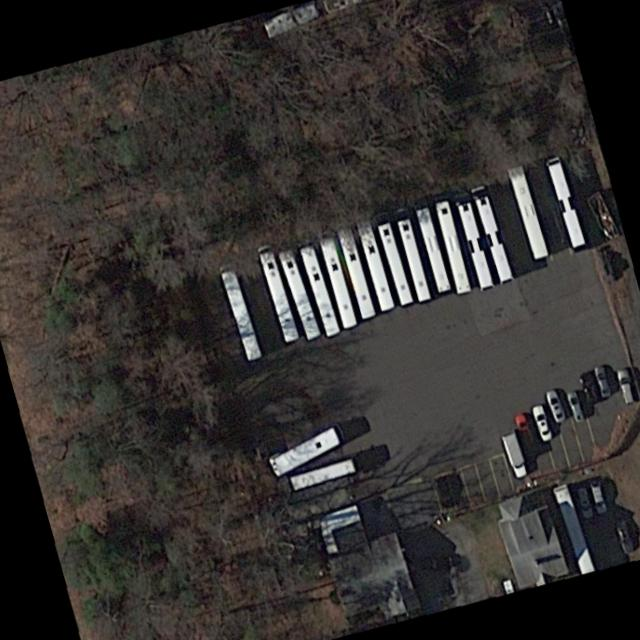large-vehicle: (216, 263, 261, 364), (469, 186, 513, 286), (254, 244, 298, 344), (505, 166, 548, 261), (276, 249, 320, 340), (297, 244, 339, 337), (316, 232, 356, 329), (544, 158, 584, 249), (267, 427, 339, 477), (454, 201, 493, 292), (433, 201, 470, 295), (375, 222, 413, 307), (414, 207, 450, 294), (395, 219, 431, 303), (496, 427, 527, 480)
small-vehicle: (529, 399, 554, 445), (510, 410, 536, 452), (585, 472, 608, 517), (571, 480, 594, 520), (614, 368, 636, 408), (544, 386, 566, 424), (613, 517, 634, 554), (563, 389, 584, 425), (591, 365, 611, 400), (577, 373, 596, 407)
